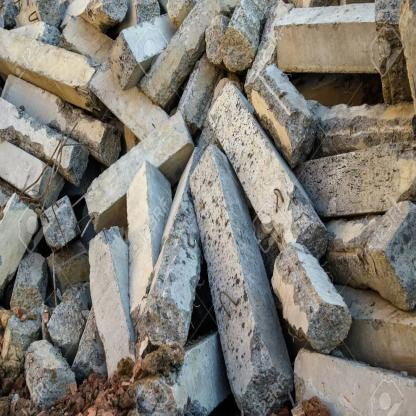rebar: (17, 119, 88, 207), (53, 202, 70, 253), (218, 289, 239, 322), (51, 250, 62, 311)
